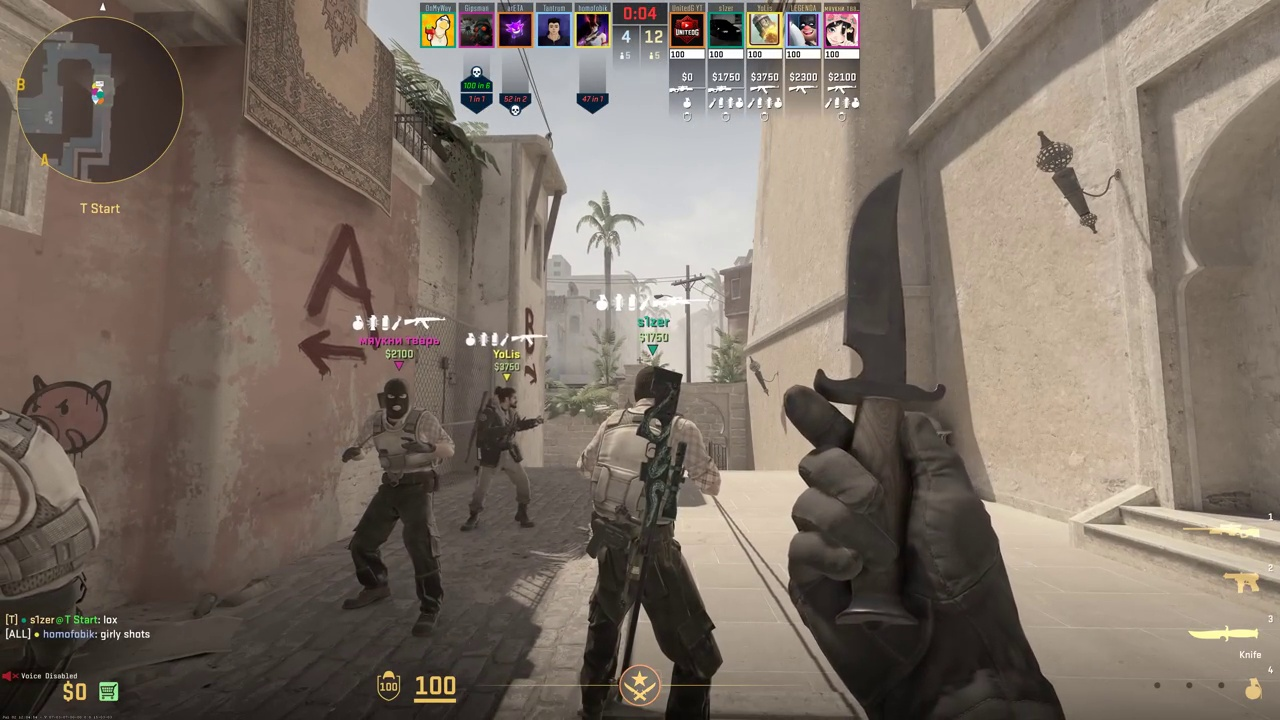Terrorist: (578, 366, 721, 720), (0, 410, 102, 720), (349, 378, 443, 631), (464, 386, 541, 530)
